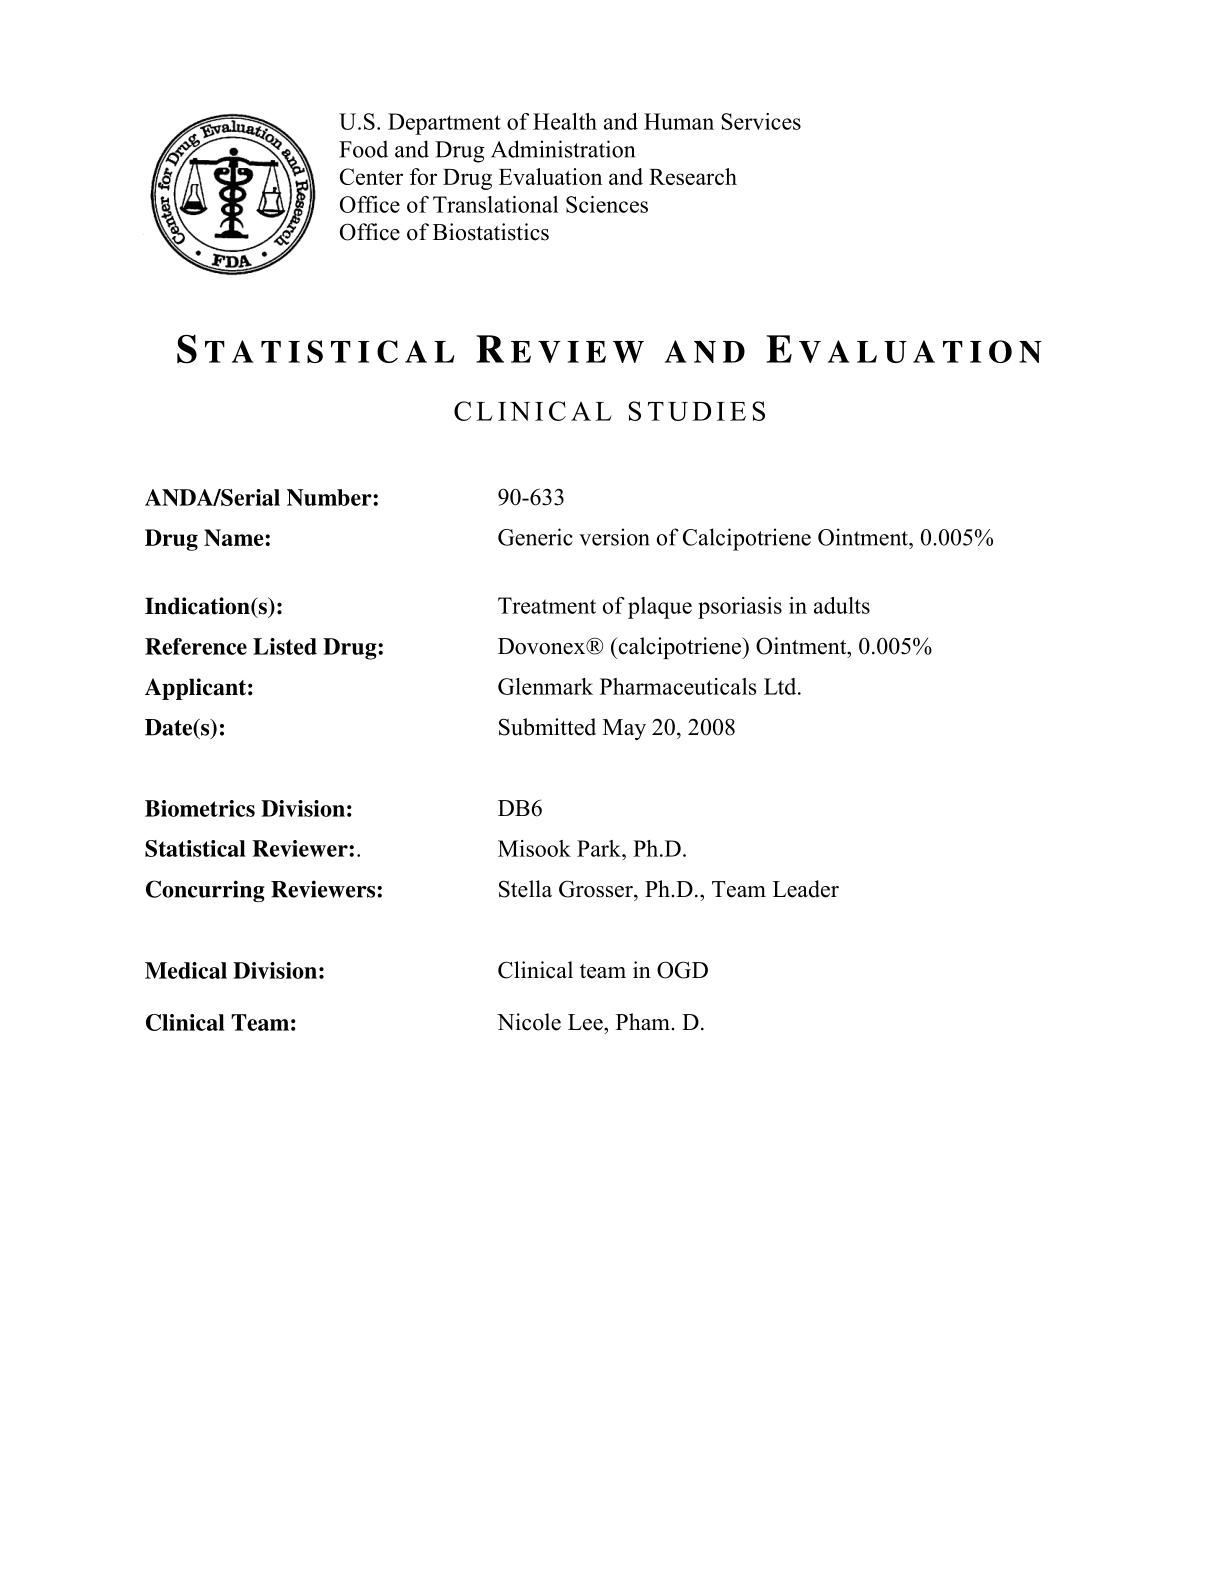nolines: (138, 483, 998, 1041)
